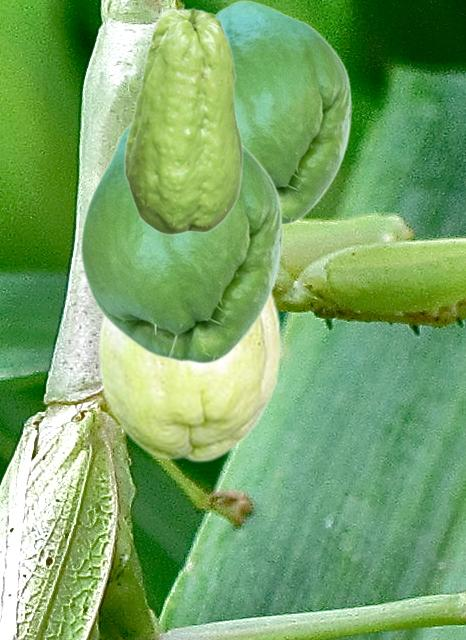sayote: (79, 124, 282, 364), (97, 287, 280, 462), (216, 0, 351, 225), (123, 7, 243, 235)
